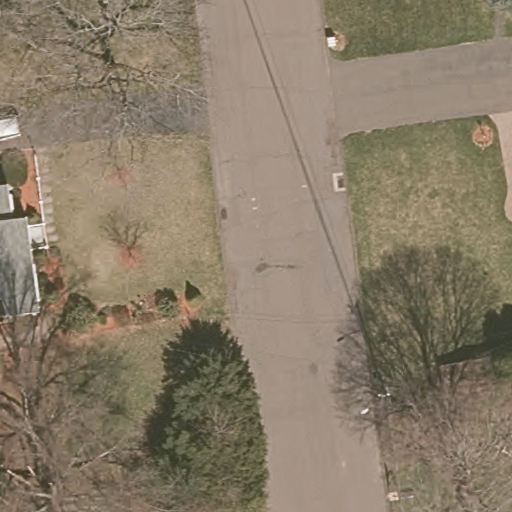DT: (357, 375, 392, 417)
